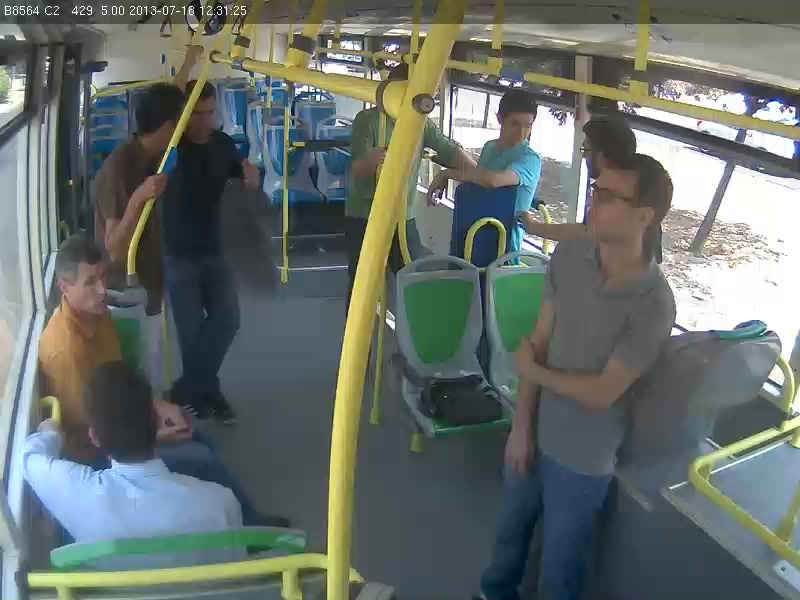Head: (579, 148, 674, 254), (79, 359, 163, 472), (570, 109, 642, 187), (51, 236, 115, 322), (486, 86, 554, 158), (131, 77, 185, 159), (178, 75, 226, 140)
